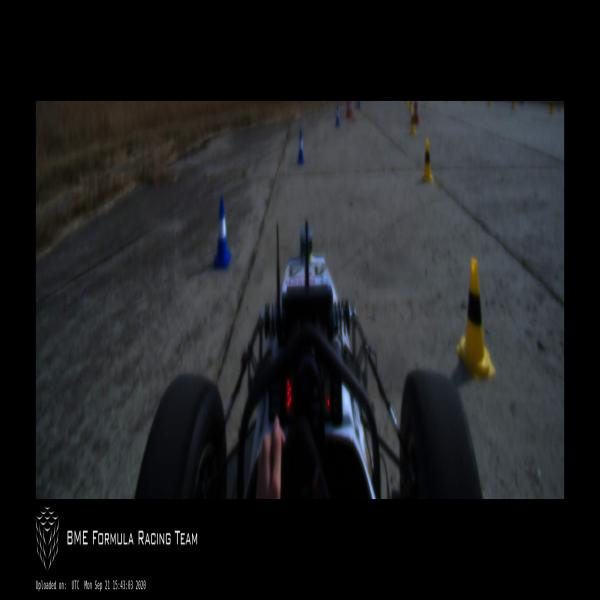blue_cone: (213, 196, 231, 268), (296, 130, 305, 164), (335, 104, 340, 125)
orange_cone: (412, 101, 420, 124), (347, 101, 352, 115)
yellow_cone: (456, 258, 495, 379), (421, 138, 433, 181), (410, 109, 416, 135)
